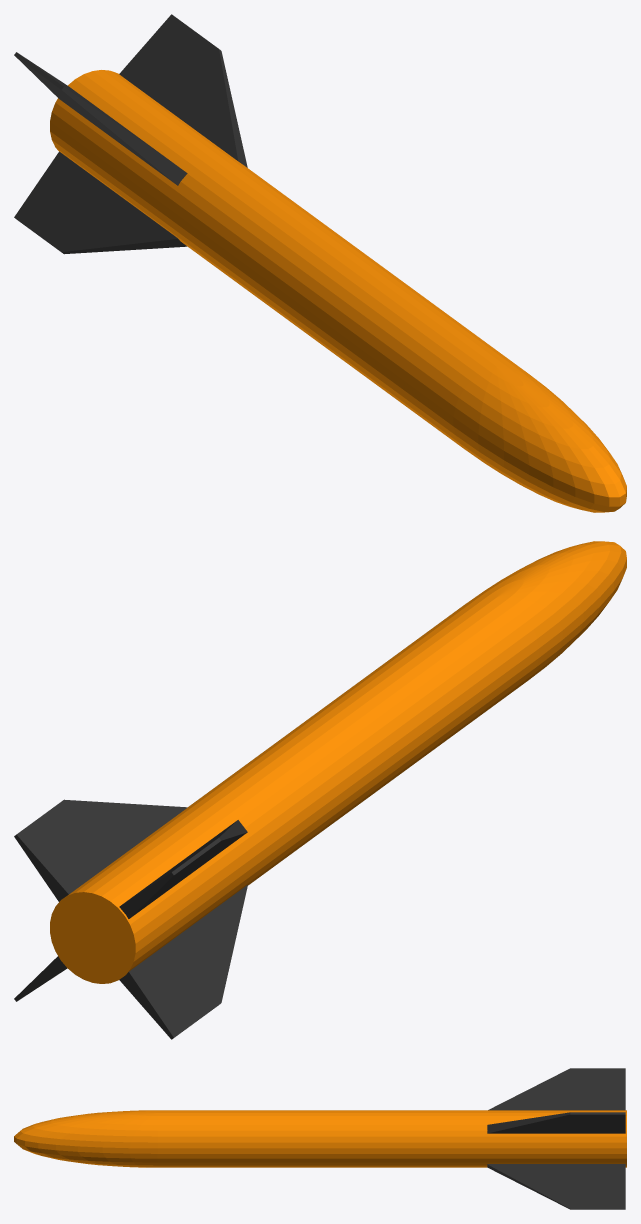
The model's file is ground_missile_1.glb.
3 renders of one model, top to bottom at view 1: azimuth 30°, elevation 25°; view 2: azimuth 150°, elevation 25°; view 3: azimuth 270°, elevation 25°, orthographic. The views are drawn at different scales.
Parts seen in each view (by area): view 1: base, Würfel.003, Würfel, Würfel.002; view 2: base, Würfel.003, Würfel, Würfel.002; view 3: base, Würfel.001, Würfel.002, Würfel.
Part boxes in pixels (<box>): base: <box>50,70,626,512</box>; Würfel.003: <box>14,151,186,254</box>; Würfel: <box>119,14,247,167</box>; Würfel.002: <box>14,52,187,185</box>; base: <box>50,541,626,983</box>; Würfel.003: <box>119,885,247,1039</box>; Würfel: <box>14,799,187,901</box>; Würfel.002: <box>119,820,247,918</box>; base: <box>14,1110,626,1167</box>; Würfel.001: <box>487,1164,625,1209</box>; Würfel.002: <box>488,1068,625,1110</box>; Würfel: <box>487,1112,625,1133</box>.
Size of the model in its own units: 0.0933 by 0.0933 by 0.5328.
